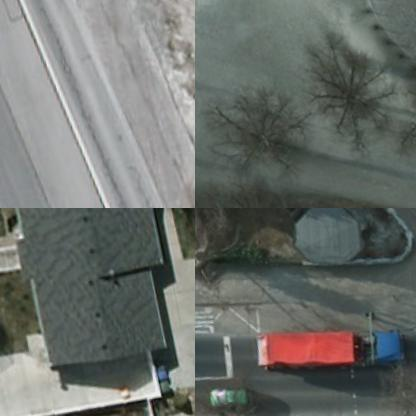car: (202, 374, 262, 415)
